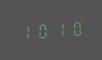one: (18, 22, 33, 41), (50, 20, 65, 38)
zero: (34, 21, 49, 40), (66, 18, 81, 37)
